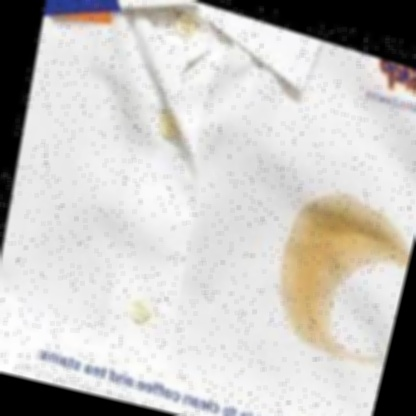coffee: (266, 182, 358, 334), (346, 205, 405, 264)
